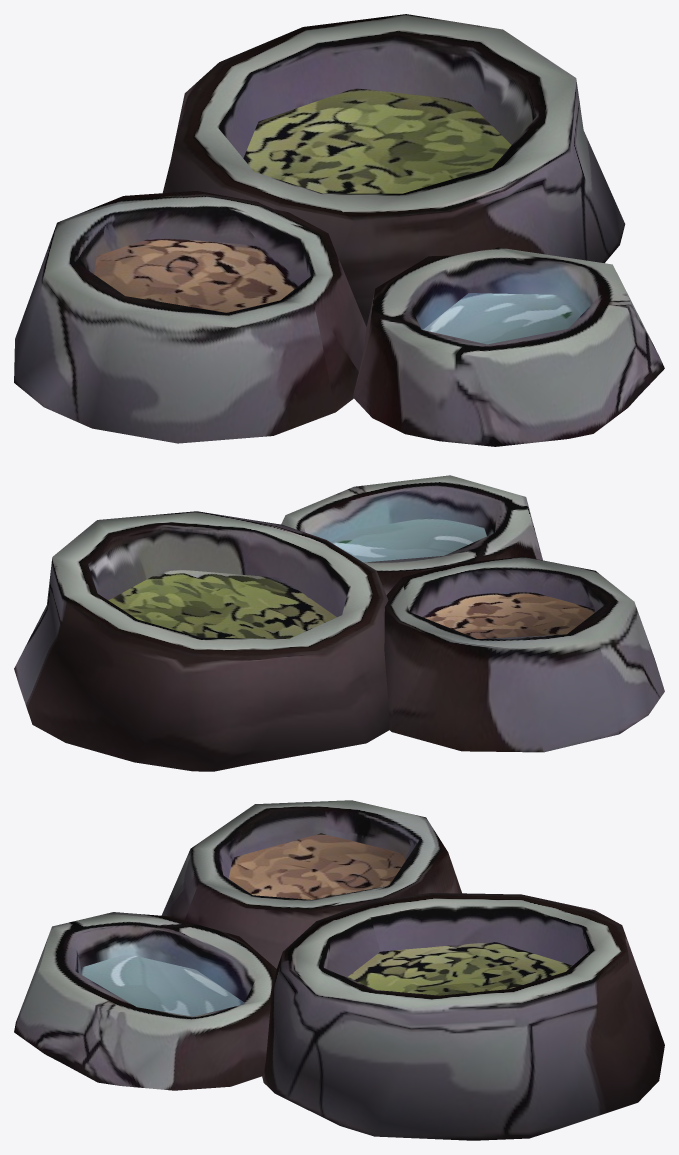
File: Feeders02.glb
The picture shows the model from 3 angles, top to bottom: view 1: azimuth 30°, elevation 25°; view 2: azimuth 150°, elevation 25°; view 3: azimuth 270°, elevation 25°; orthographic projection. The views are drawn at different scales.
Visible parts, largest first — view 1: Feeders02; view 2: Feeders02; view 3: Feeders02.
Part boxes in pixels (x1=…): Feeders02: x1=14, y1=14, x2=664, y2=446; Feeders02: x1=14, y1=475, x2=664, y2=771; Feeders02: x1=14, y1=800, x2=664, y2=1140.
Size of what is drawn, in the model's own units: 1.3 by 0.2767 by 1.36.
1 material, 1 textured.
